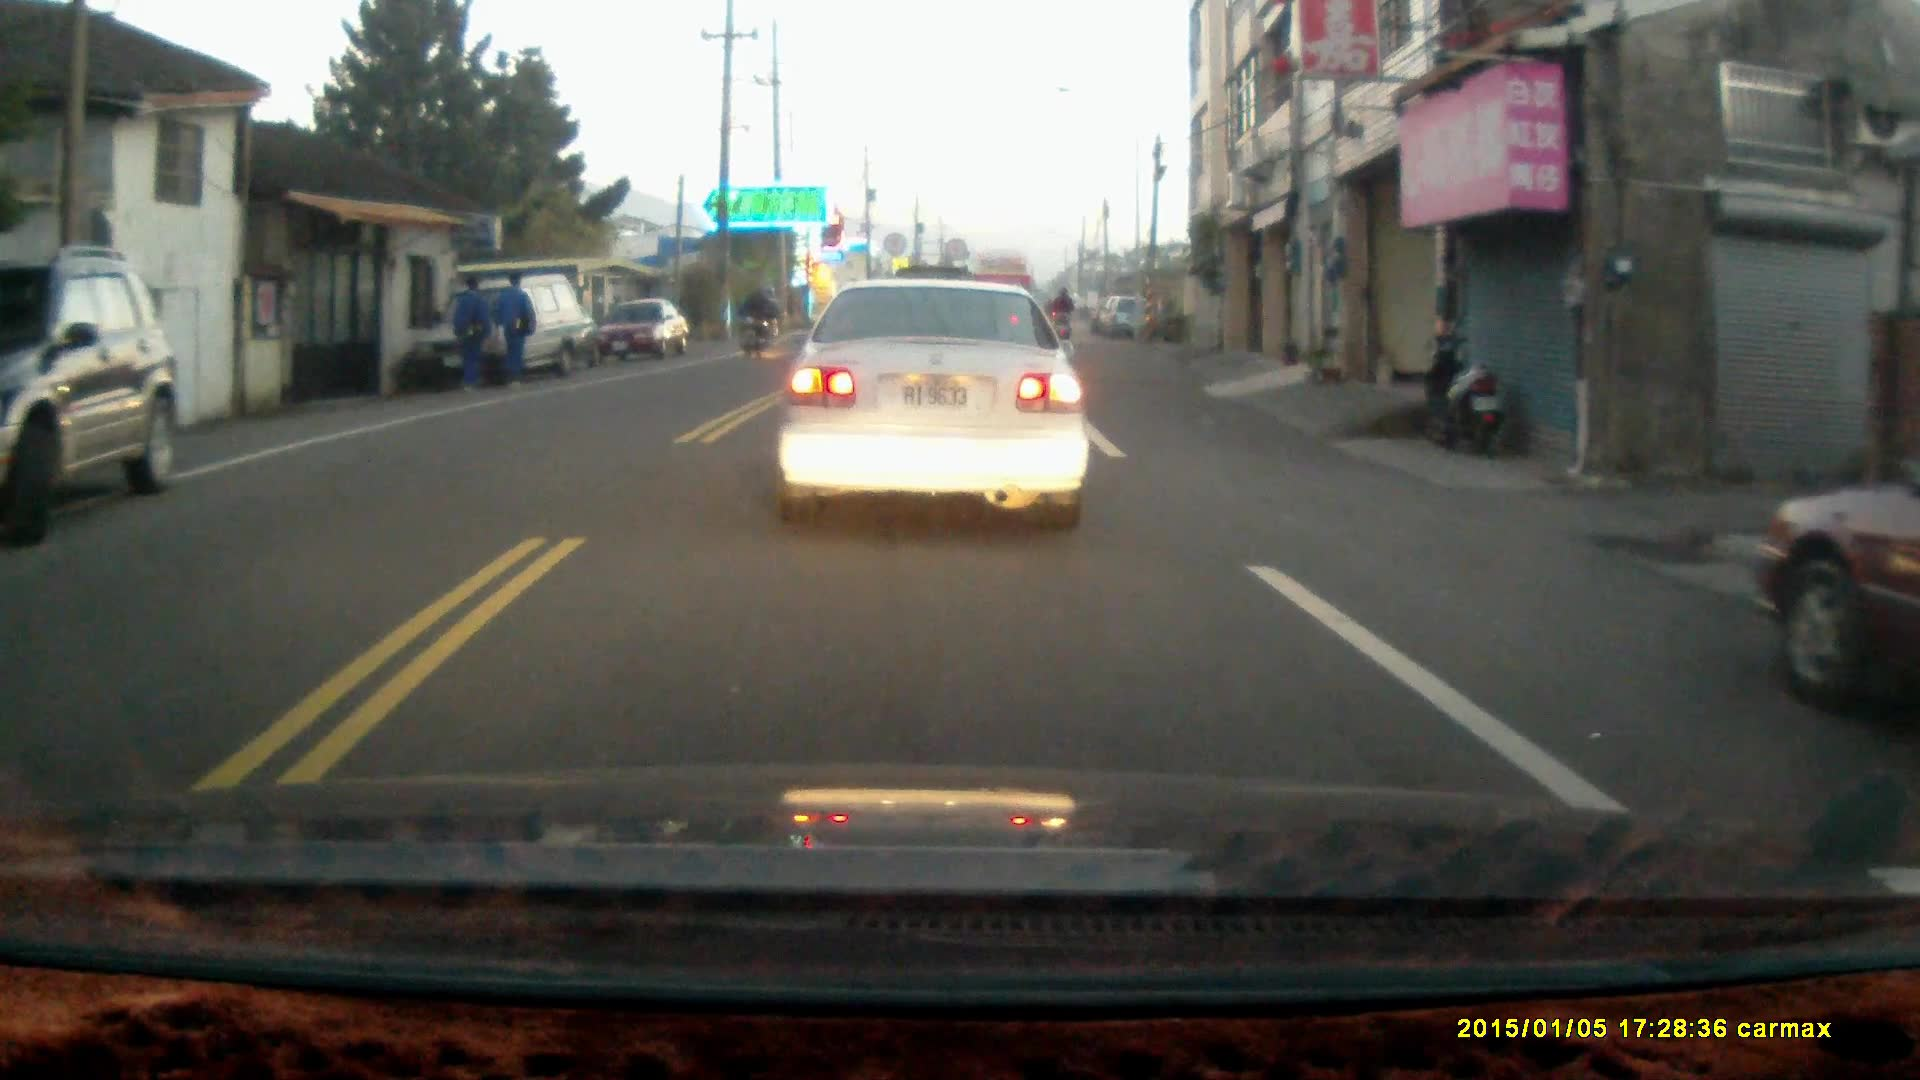pedestrian: (449, 280, 490, 396), (494, 271, 532, 393)
rider: (733, 288, 772, 358)
vehicle: (774, 276, 1096, 530), (1, 258, 180, 540), (1745, 467, 1920, 692), (436, 272, 600, 384), (590, 303, 693, 365)
